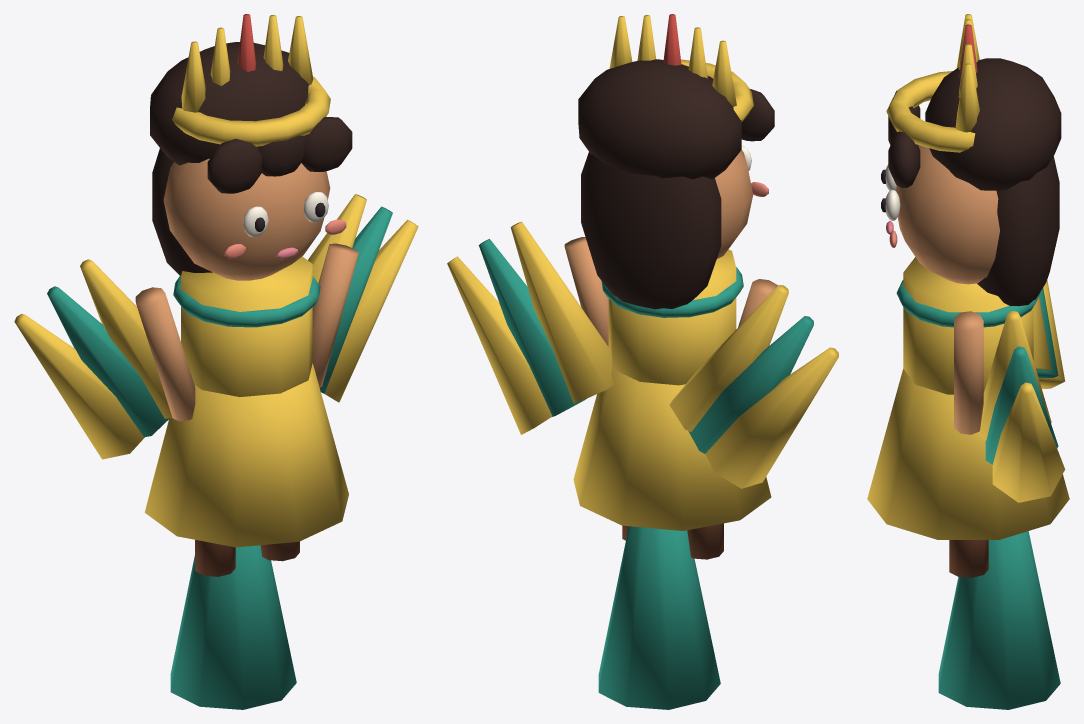
Rendered from manora.glb.
The picture shows the model from 3 angles, left to right: view 1: azimuth 30°, elevation 25°; view 2: azimuth 150°, elevation 25°; view 3: azimuth 270°, elevation 25°; orthographic projection. The views are drawn at different scales.
Parts seen in each view (by area): view 1: manora_robe, manora_tail, manora_torso, manora_head, manora_hair_back, manora_wing_-1_2, manora_wing_-1_1, manora_wing_-1_0, manora_wing_1_2, manora_crown_band, manora_arm_-1, manora_arm_1 (+14 smaller); view 2: manora_robe, manora_tail, manora_long_hair, manora_hair_back, manora_torso, manora_wing_1_0, manora_wing_-1_2, manora_wing_1_2, manora_wing_-1_0, manora_wing_1_1, manora_wing_-1_1, manora_head (+10 smaller); view 3: manora_robe, manora_tail, manora_hair_back, manora_head, manora_long_hair, manora_torso, manora_wing_1_2, manora_arm_1, manora_crown_band, manora_wing_1_1, manora_wing_1_0, manora_belt (+9 smaller).
Boxes of the visible parts, x1,y1,x2,y2 form: manora_robe: (145,363,348,547); manora_tail: (170,545,296,709); manora_torso: (181,256,312,396); manora_head: (163,158,330,280); manora_hair_back: (150,42,308,165); manora_wing_-1_2: (14,313,144,459); manora_wing_-1_1: (47,286,169,437); manora_wing_-1_0: (80,259,172,418); manora_wing_1_2: (324,219,418,402); manora_crown_band: (172,76,330,146); manora_arm_-1: (135,287,195,421); manora_arm_1: (312,243,358,387); manora_robe: (573,366,771,530); manora_tail: (598,526,720,709); manora_long_hair: (581,152,721,309); manora_hair_back: (578,59,741,179); manora_torso: (608,249,736,385); manora_wing_1_0: (510,221,613,403); manora_wing_-1_2: (705,347,838,488); manora_wing_1_2: (447,256,552,434); manora_wing_-1_0: (669,285,788,431); manora_wing_1_1: (478,238,586,416); manora_wing_-1_1: (688,316,813,453); manora_head: (715,150,753,258); manora_robe: (867,369,1069,539); manora_tail: (938,531,1060,709); manora_hair_back: (925,58,1061,190); manora_head: (896,145,999,284); manora_long_hair: (977,156,1059,306); manora_torso: (903,257,1033,394); manora_wing_1_2: (992,382,1065,502); manora_arm_1: (954,311,983,434); manora_crown_band: (886,71,975,152); manora_wing_1_1: (985,346,1058,464); manora_wing_1_0: (979,311,1051,440); manora_belt: (896,280,1040,327).
Size of the model in its own units: 2 by 3.22 by 0.9.
